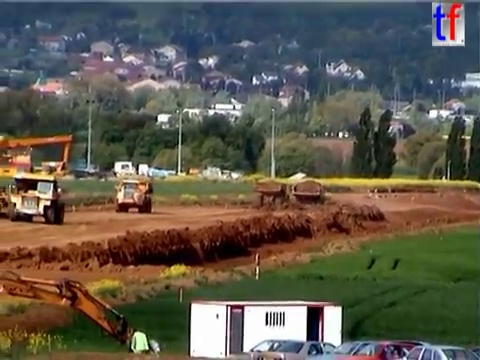crane: (1, 131, 75, 178)
excavator: (1, 266, 164, 360)
motor grader: (1, 181, 29, 221)
truck: (7, 171, 65, 226), (112, 174, 154, 214), (251, 179, 295, 210), (291, 179, 327, 210)
worker: (127, 325, 153, 360)
